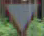Give way: (2, 0, 39, 35)
